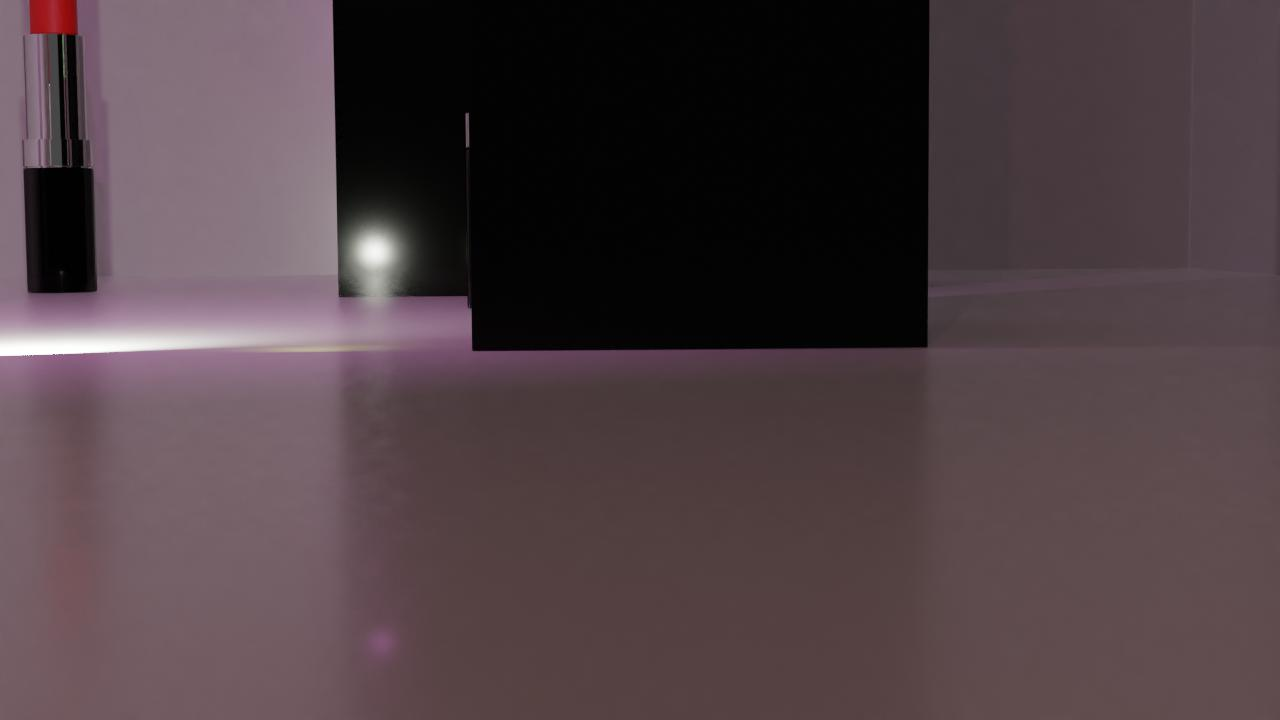CLASSIFIER_NAME: (21, 0, 100, 293)
